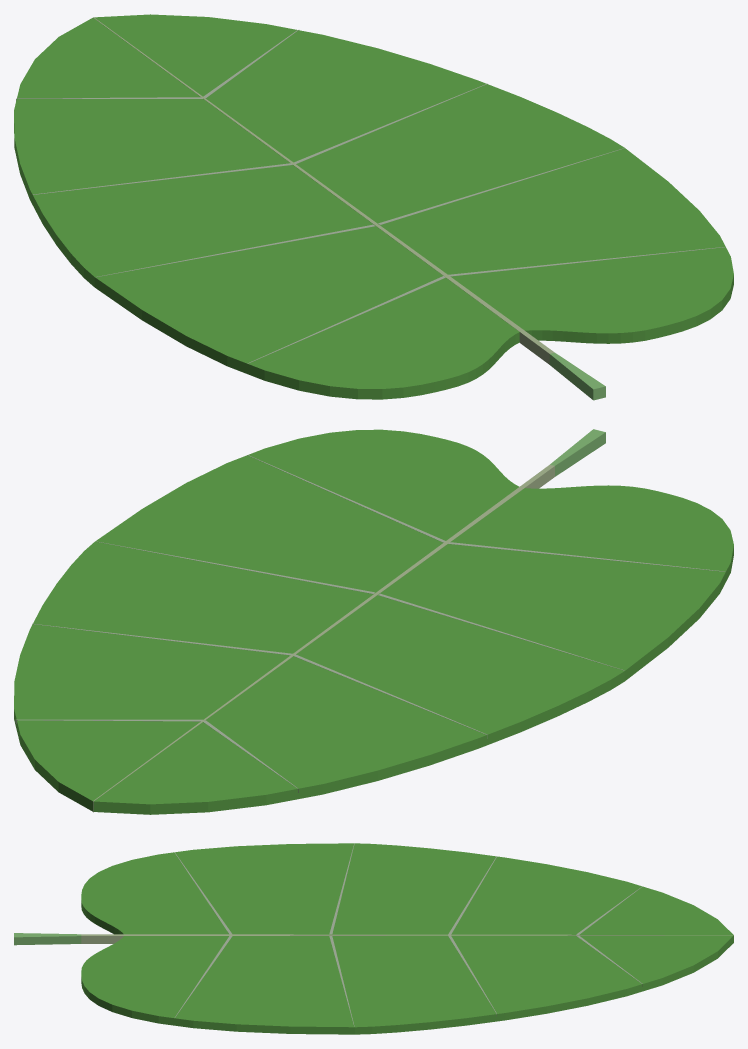
File: fragileleaf0.glb
3 views of the same model, one above another, from view 1: azimuth 30°, elevation 25°; view 2: azimuth 150°, elevation 25°; view 3: azimuth 270°, elevation 25° (orthographic). The views are drawn at different scales.
Parts seen in each view (by area): view 1: BézierCurve, Cube; view 2: BézierCurve, Cube; view 3: BézierCurve, Cube.
Boxes of the visible parts, <box> form: BézierCurve: <box>14,14,733,399</box>; Cube: <box>93,17,605,400</box>; BézierCurve: <box>14,429,733,814</box>; Cube: <box>93,429,605,812</box>; BézierCurve: <box>81,843,733,1034</box>; Cube: <box>14,933,733,945</box>.
Size of the model in its own units: 2 by 0.04 by 3.31.
